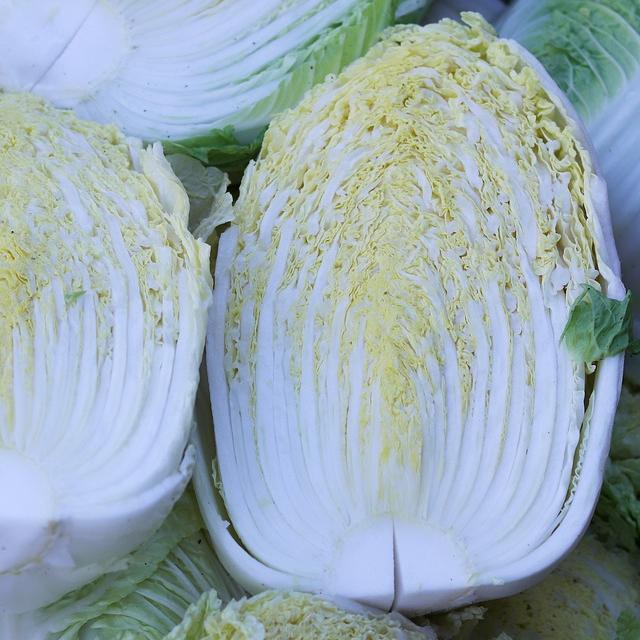cabbage: (203, 12, 624, 606), (0, 82, 205, 628), (0, 0, 449, 138), (506, 0, 640, 362)
